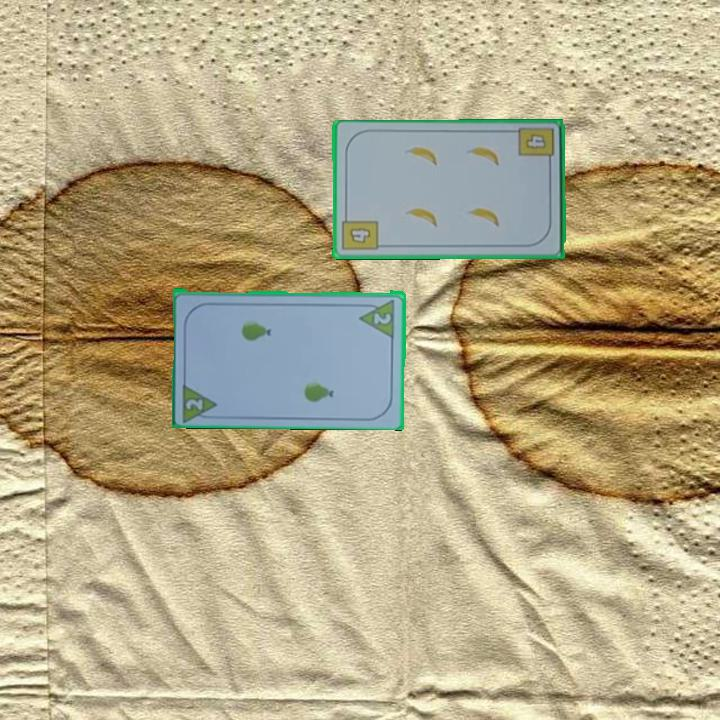2p: (179, 378, 221, 423), (370, 309, 394, 326)
4b: (339, 210, 381, 254), (516, 125, 557, 168)
